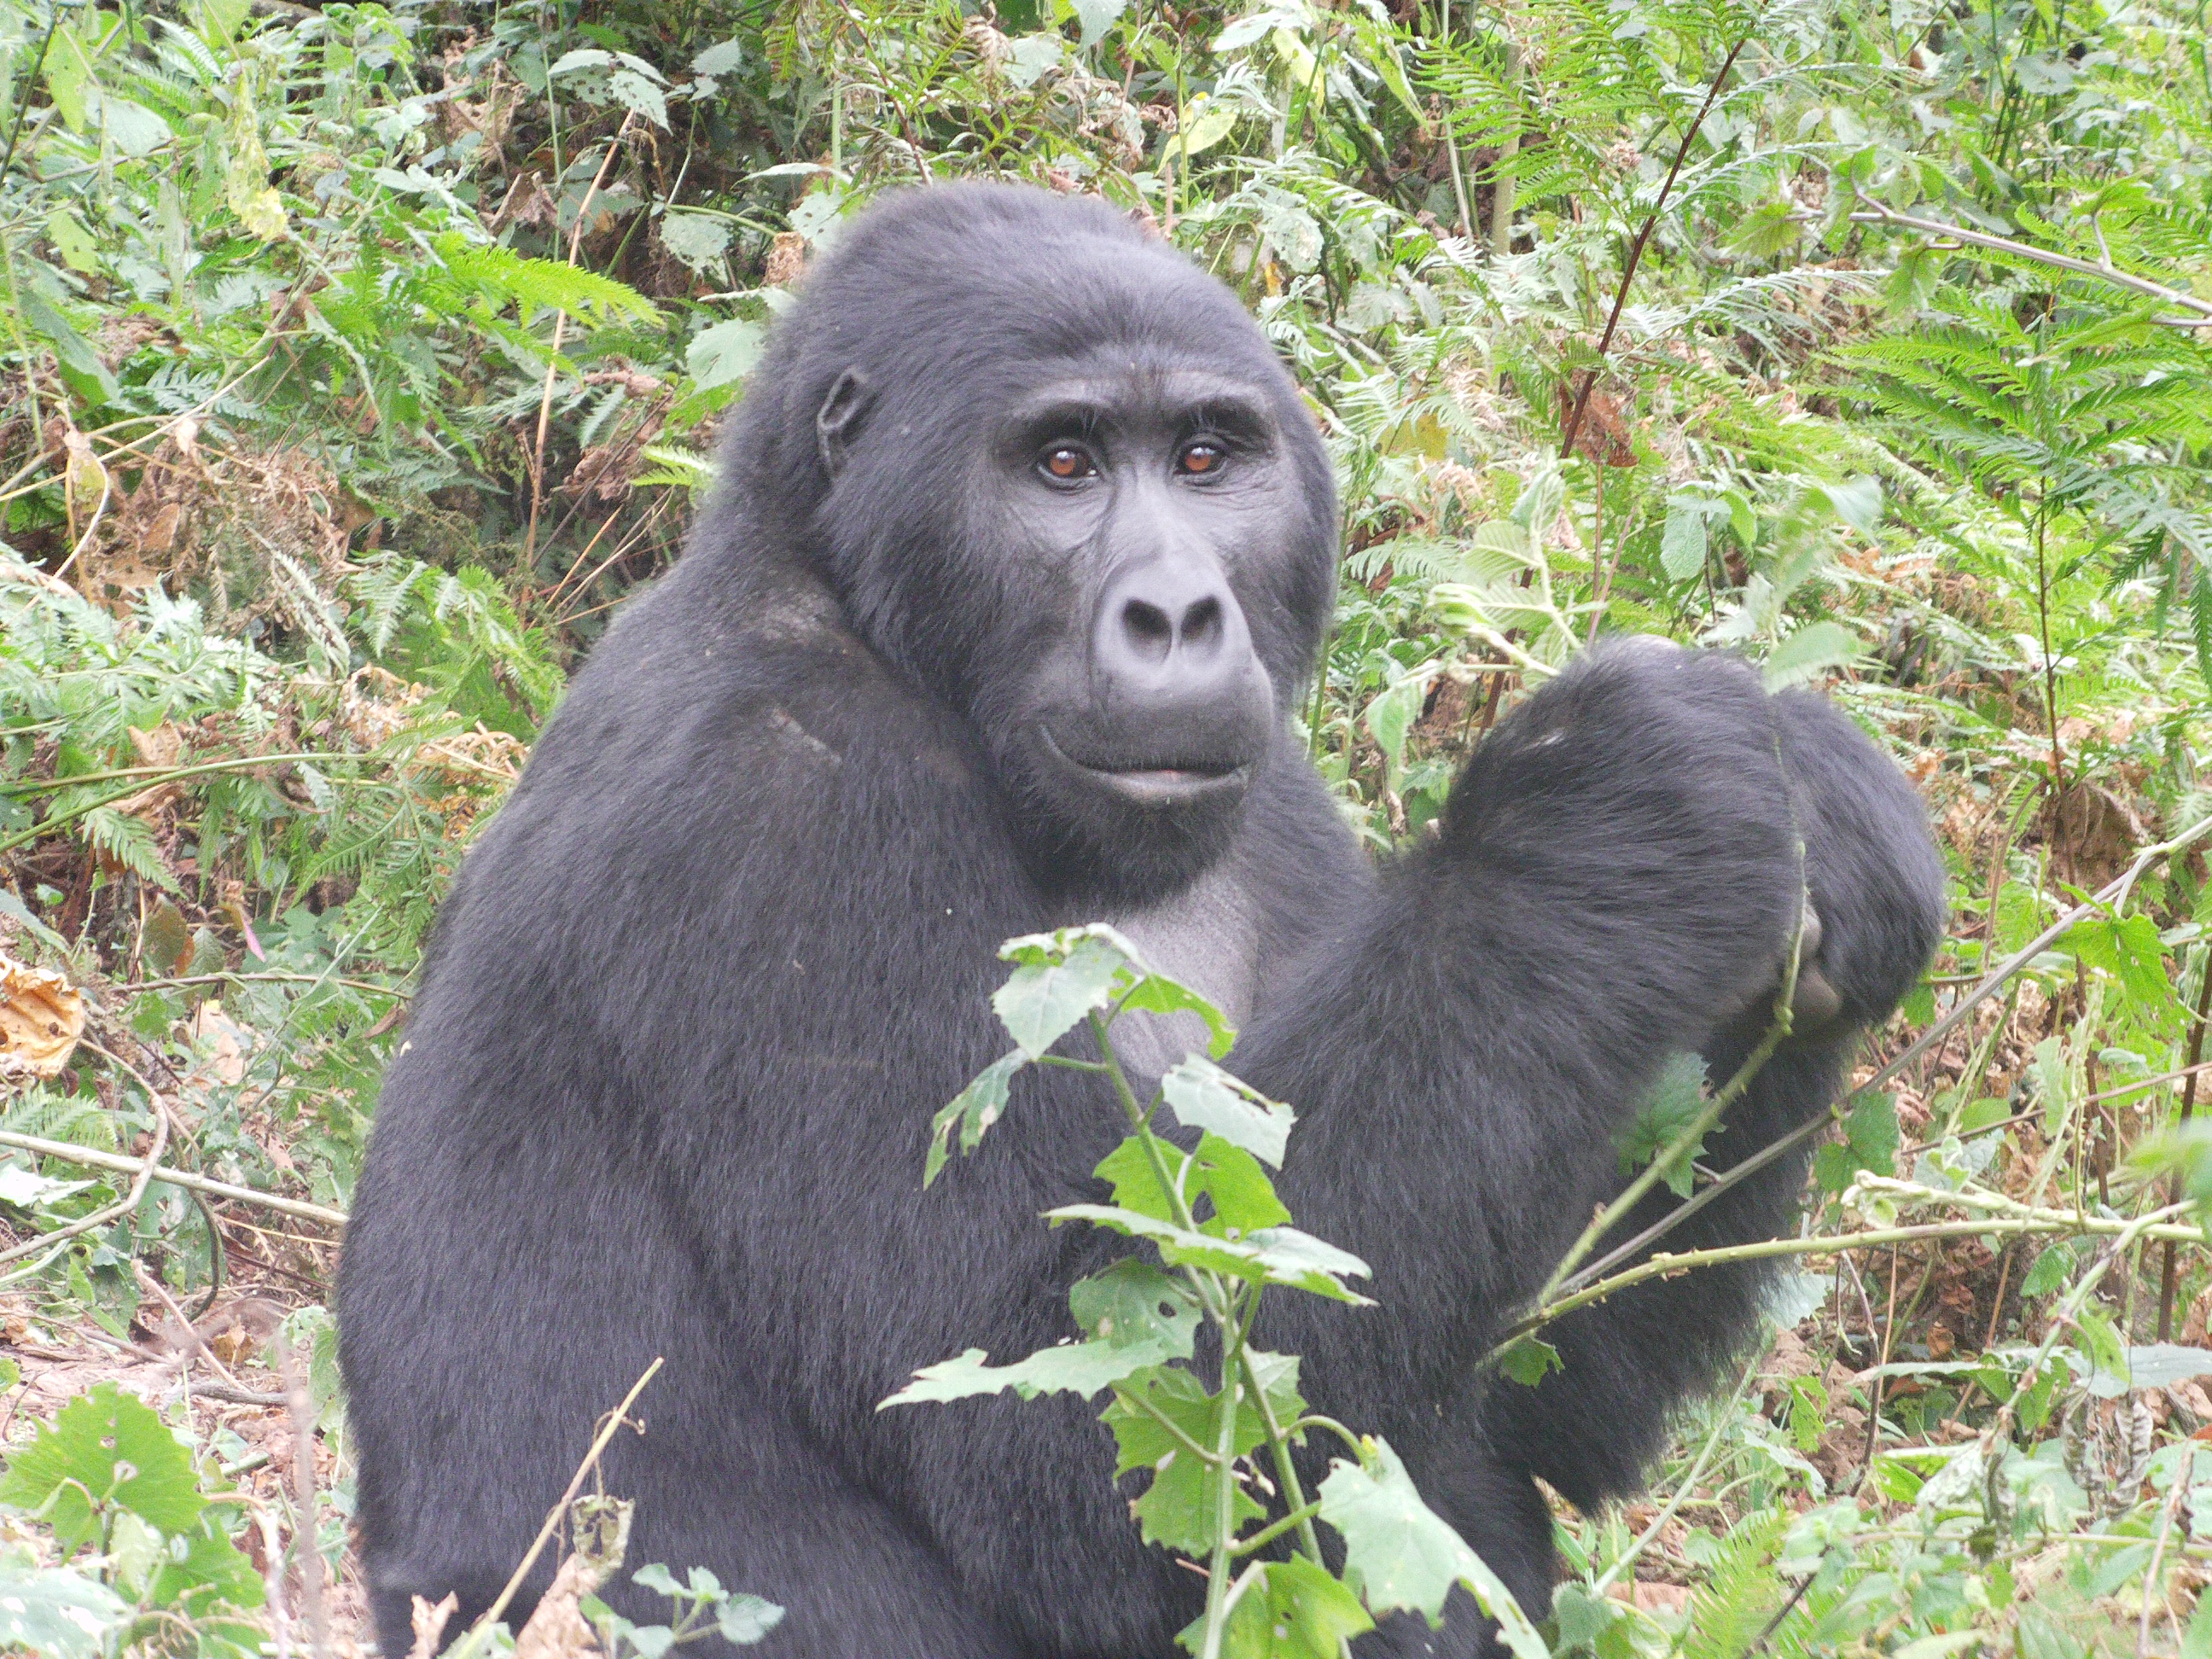Goriila: (376, 80, 2024, 1659)
